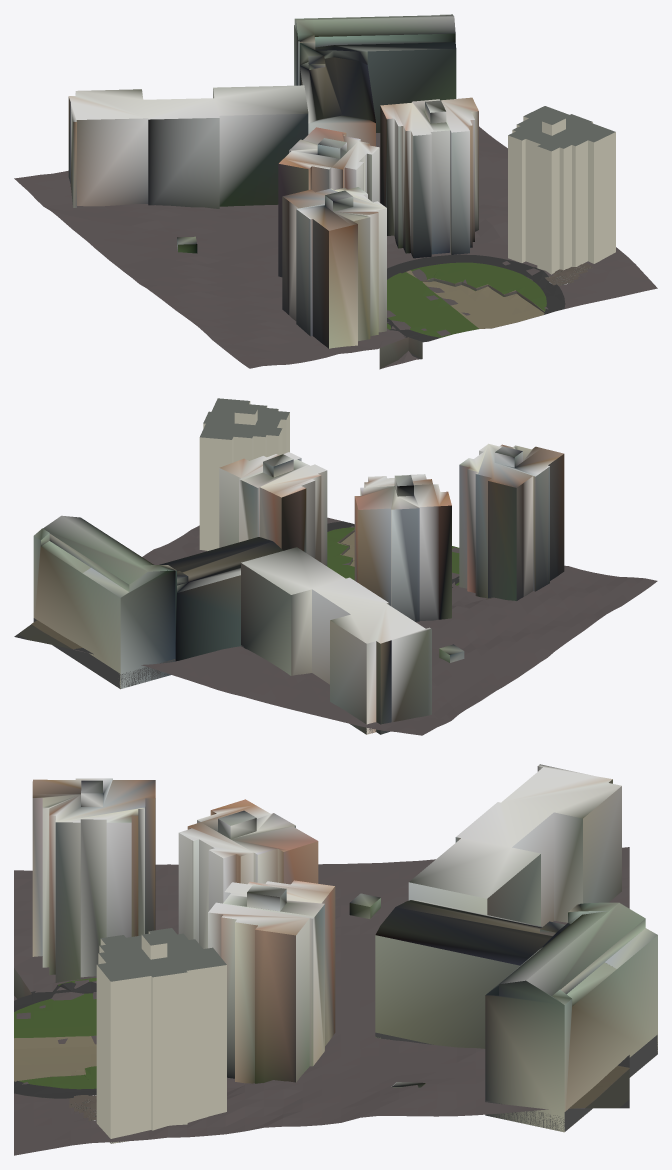
3 views of the same model, one above another, from view 1: azimuth 30°, elevation 25°; view 2: azimuth 150°, elevation 25°; view 3: azimuth 270°, elevation 25° (orthographic). The views are drawn at different scales.
Parts seen in each view (by area): view 1: c_p04_m14; view 2: c_p04_m14; view 3: c_p04_m14.
Boxes of the visible parts, <box> form: c_p04_m14: <box>14,14,657,369</box>; c_p04_m14: <box>14,398,657,735</box>; c_p04_m14: <box>14,764,657,1155</box>.
Bounding box in the file's own units: 130 × 46.45 × 134.
